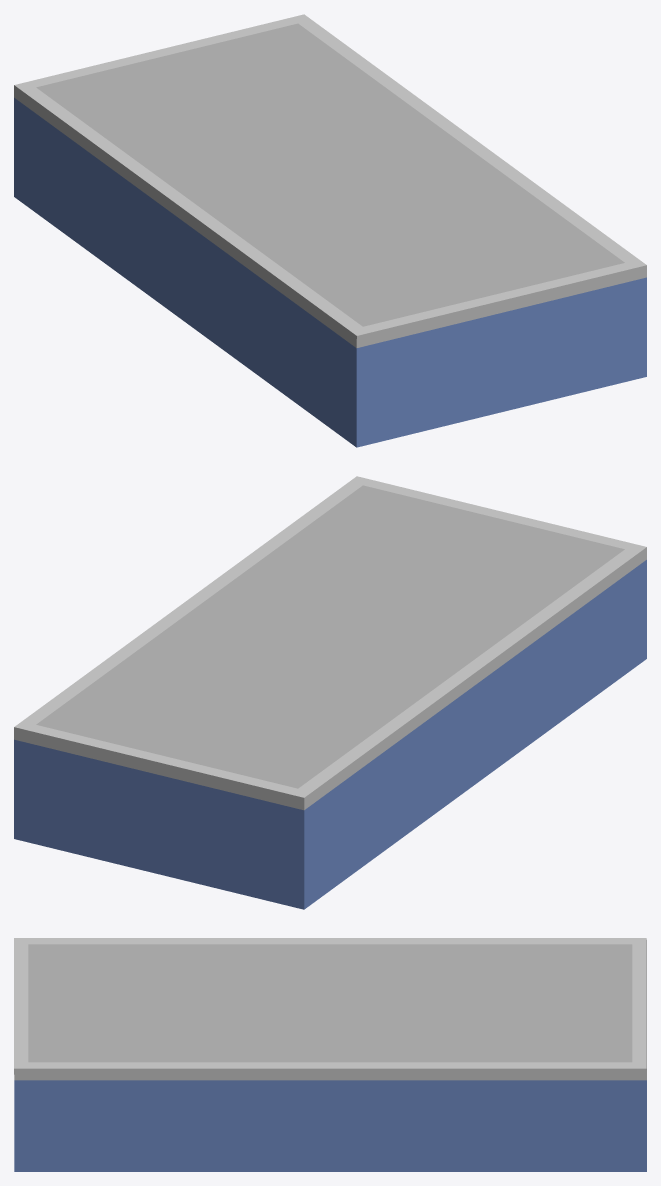
The model's file is BoxStraight.fbx.
The picture shows the model from 3 angles, top to bottom: view 1: azimuth 30°, elevation 25°; view 2: azimuth 150°, elevation 25°; view 3: azimuth 270°, elevation 25°; orthographic projection. The views are drawn at different scales.
Parts seen in each view (by area): view 1: StraightBox; view 2: StraightBox; view 3: StraightBox.
Part boxes in pixels (box(x1,y1,x2,y2)): StraightBox: box(14, 14, 646, 447); StraightBox: box(14, 476, 646, 909); StraightBox: box(14, 938, 646, 1171).
Size of the model in its own units: 2.44 by 0.9 by 5.
